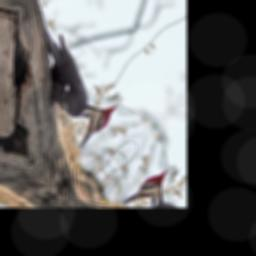Woodpecker: (9, 20, 122, 150)
